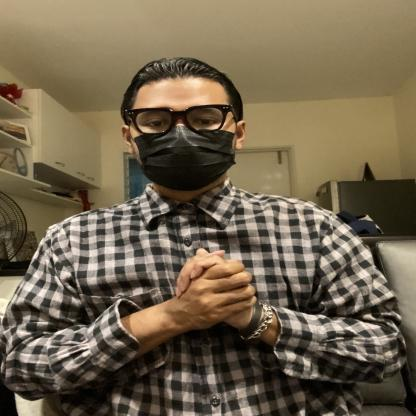Grieve: (50, 225, 330, 358)
